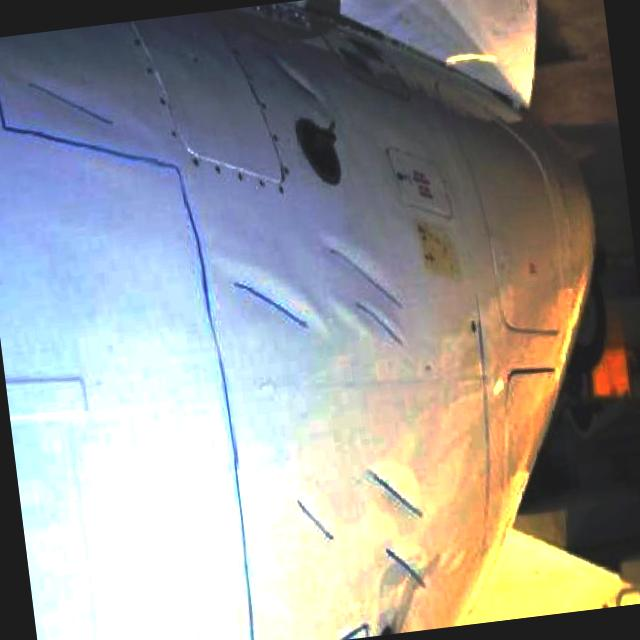dent: (27, 70, 144, 168), (253, 34, 324, 114), (332, 235, 398, 308), (236, 276, 305, 336), (362, 465, 417, 526), (354, 300, 402, 350), (296, 497, 336, 552), (386, 543, 423, 597)
